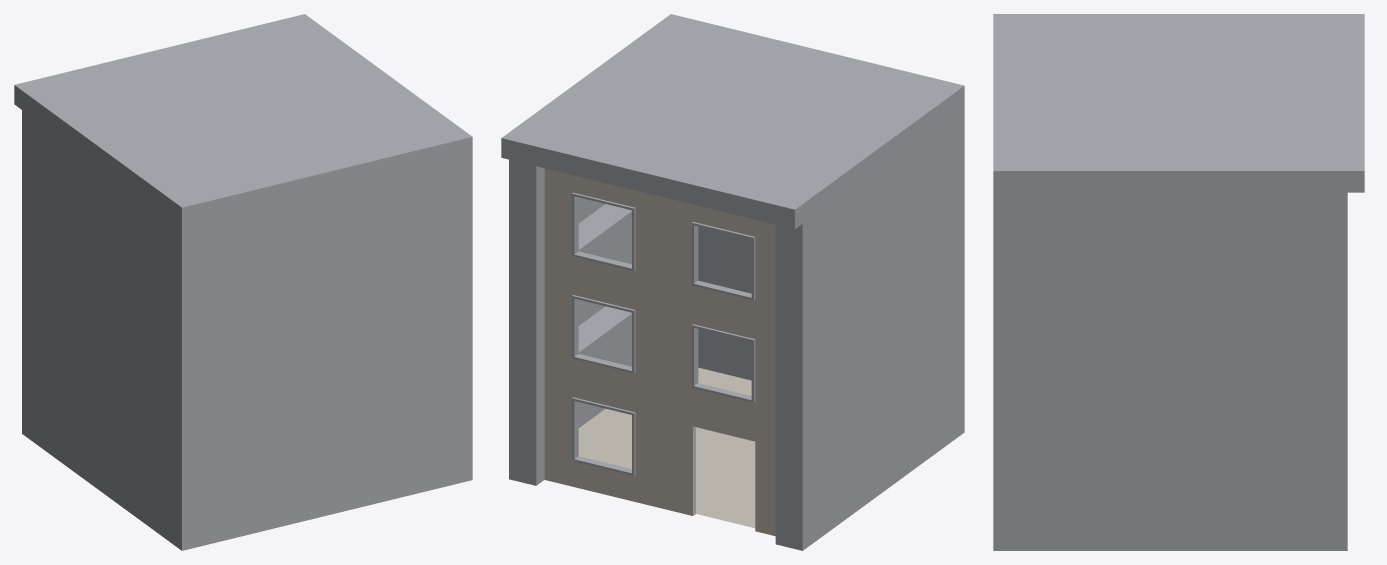
The model's file is Bld_O_high_L2_B.fbx.
3 views of the same model, side by side, from view 1: azimuth 30°, elevation 25°; view 2: azimuth 150°, elevation 25°; view 3: azimuth 270°, elevation 25° (orthographic). The views are drawn at different scales.
Visible parts, largest first — view 1: Bld_O_high_L2_B_LOD0; view 2: Bld_O_high_L2_B_LOD0; view 3: Bld_O_high_L2_B_LOD0.
Boxes of the visible parts, x1,y1,x2,y2 form: Bld_O_high_L2_B_LOD0: (14, 14, 472, 550); Bld_O_high_L2_B_LOD0: (501, 14, 964, 550); Bld_O_high_L2_B_LOD0: (993, 14, 1364, 550).
Size of what is drawn, in the model's own units: 1380 by 1693 by 1410.
1 material, 1 textured.
